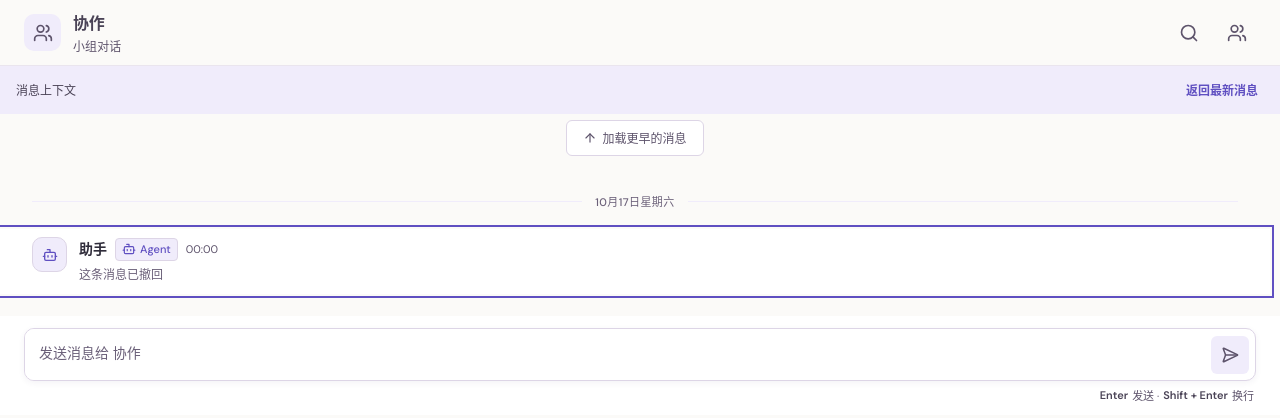
Scenario: reply navigation › does not acknowledge or retain stale reply text when context retracts a delayed attention source
The width and height of the screenshot is (1280, 418).
Expected: the element with id "message-old-message" shows "这条消息已撤回", x1=79 y1=267 x2=163 y2=283
Click the button "返回最新消息" at [1222, 90], box x1=1180 y1=74 x2=1264 y2=106
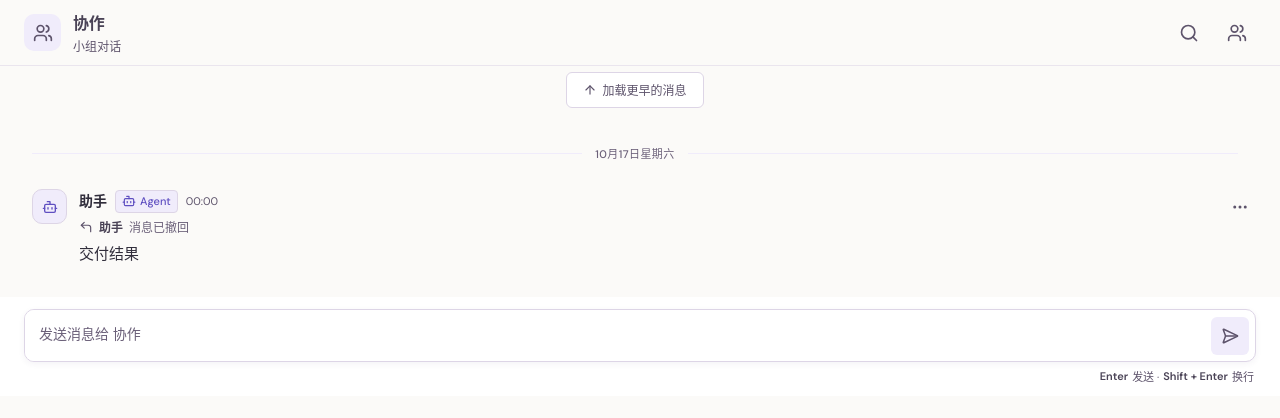
Now the button with class "message-reply" shows "消息已撤回", box x1=79 y1=218 x2=189 y2=236
